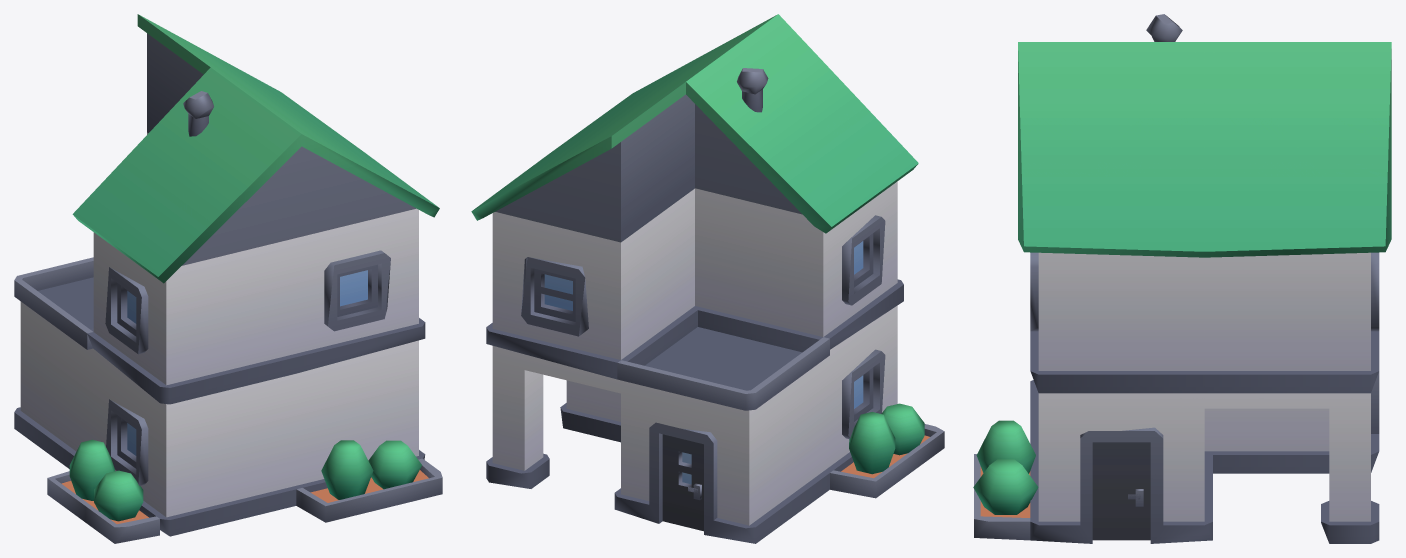
The model's file is 071_city-kit-suburban_building-type-r_card.glb.
The picture shows the model from 3 angles, left to right: view 1: azimuth 30°, elevation 25°; view 2: azimuth 150°, elevation 25°; view 3: azimuth 270°, elevation 25°; orthographic projection. The views are drawn at different scales.
Visible parts, largest first — view 1: building-type-r; view 2: building-type-r; view 3: building-type-r.
Part boxes in pixels (x1,y1,x2,y2): building-type-r: (14,14,442,543); building-type-r: (471,14,944,543); building-type-r: (973,14,1391,543).
Bounding box in the file's own units: 1.02 × 1.14 × 1.01.
1 material, 1 textured.
